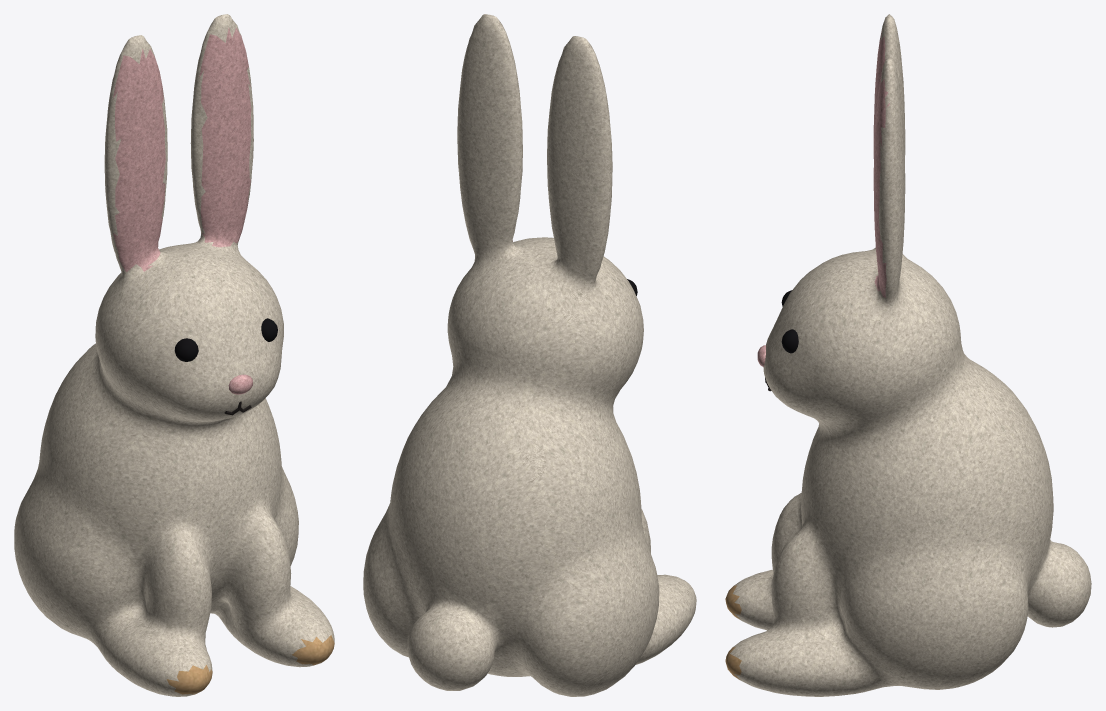
Rendered from rabbit.glb.
The picture shows the model from 3 angles, left to right: view 1: azimuth 30°, elevation 25°; view 2: azimuth 150°, elevation 25°; view 3: azimuth 270°, elevation 25°; orthographic projection. The views are drawn at different scales.
Visible parts, largest first — view 1: Rabbit body, Eyes, nose and mouth; view 2: Rabbit body; view 3: Rabbit body, Eyes, nose and mouth.
Part boxes in pixels (box(x1,y1,x2,y2)): Rabbit body: box(14, 14, 334, 696); Eyes, nose and mouth: box(174, 318, 277, 415); Rabbit body: box(363, 14, 696, 696); Rabbit body: box(725, 14, 1091, 696); Eyes, nose and mouth: box(757, 290, 798, 391).
Size of the model in its own units: 0.14 by 0.3265 by 0.1741.
5 materials, 5 textured.
